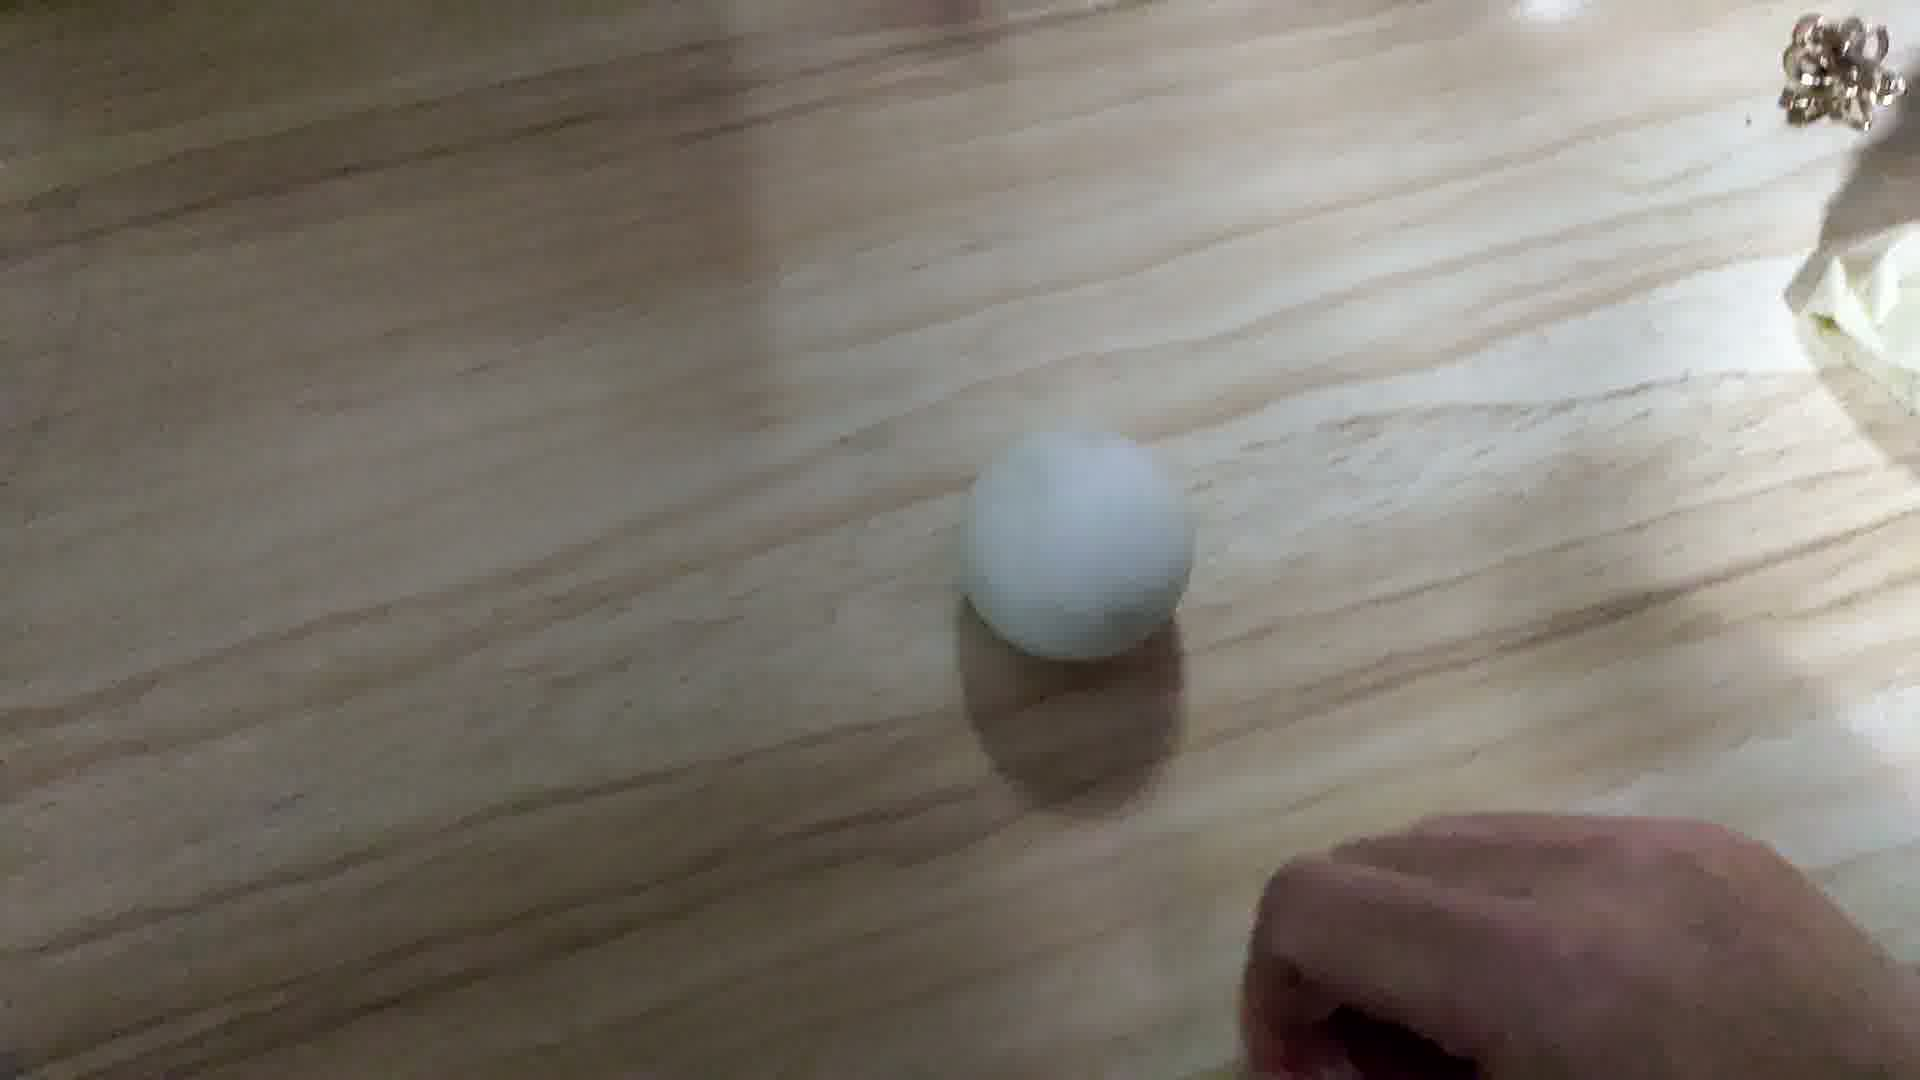Ball: (963, 433, 1199, 661)
